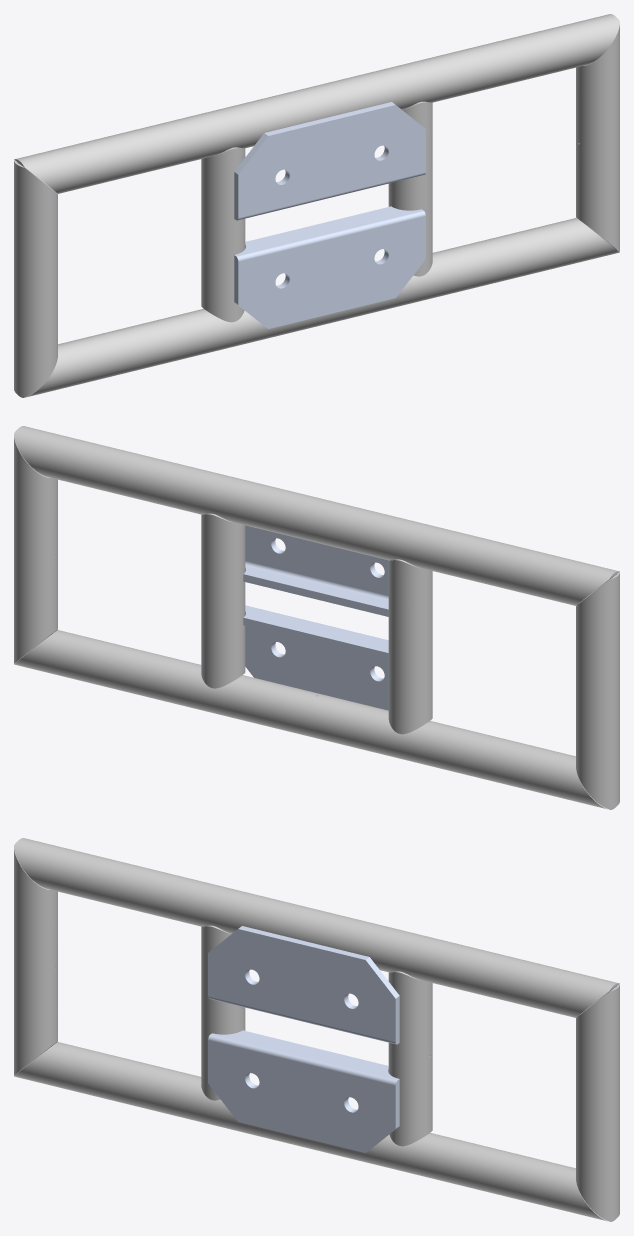
The picture shows the model from 3 angles, top to bottom: view 1: azimuth 30°, elevation 25°; view 2: azimuth 150°, elevation 25°; view 3: azimuth 330°, elevation 25°; orthographic projection.
Parts seen in each view (by area): view 1: Tubo Externo Maior Corte 45° - Base 800x300mm AL-P30-4, Tubo Externo Maior Corte 45° - Base 800x300mm AL-P30-3, Chapa de cabeça-2, Chapa de cabeça-1, Tubo Externo Menor Corte 45° - Base 800x300mm AL-P30-1, Tubo Externo Menor Corte 45° - Base 800x300mm AL-P30-2, Tubo Interno Maior - Base 800x8300mm AL-P30-2, Tubo Interno Maior - Base 800x8300mm AL-P30-1; view 2: Tubo Externo Maior Corte 45° - Base 800x300mm AL-P30-4, Tubo Externo Maior Corte 45° - Base 800x300mm AL-P30-3, Chapa de cabeça-2, Tubo Externo Menor Corte 45° - Base 800x300mm AL-P30-1, Chapa de cabeça-1, Tubo Externo Menor Corte 45° - Base 800x300mm AL-P30-2, Tubo Interno Maior - Base 800x8300mm AL-P30-2, Tubo Interno Maior - Base 800x8300mm AL-P30-1; view 3: Tubo Externo Maior Corte 45° - Base 800x300mm AL-P30-4, Tubo Externo Maior Corte 45° - Base 800x300mm AL-P30-3, Chapa de cabeça-2, Chapa de cabeça-1, Tubo Externo Menor Corte 45° - Base 800x300mm AL-P30-2, Tubo Externo Menor Corte 45° - Base 800x300mm AL-P30-1, Tubo Interno Maior - Base 800x8300mm AL-P30-1, Tubo Interno Maior - Base 800x8300mm AL-P30-2.
Part boxes in pixels (box(x1,y1,x2,y2)): Tubo Externo Maior Corte 45° - Base 800x300mm AL-P30-4: box(14, 14, 619, 193); Tubo Externo Maior Corte 45° - Base 800x300mm AL-P30-3: box(17, 218, 619, 397); Chapa de cabeça-2: box(234, 206, 425, 328); Chapa de cabeça-1: box(234, 102, 425, 220); Tubo Externo Menor Corte 45° - Base 800x300mm AL-P30-1: box(14, 160, 57, 397); Tubo Externo Menor Corte 45° - Base 800x300mm AL-P30-2: box(576, 19, 619, 251); Tubo Interno Maior - Base 800x8300mm AL-P30-2: box(201, 147, 245, 322); Tubo Interno Maior - Base 800x8300mm AL-P30-1: box(388, 101, 432, 276); Tubo Externo Maior Corte 45° - Base 800x300mm AL-P30-4: box(14, 426, 619, 605); Tubo Externo Maior Corte 45° - Base 800x300mm AL-P30-3: box(14, 630, 616, 809); Chapa de cabeça-2: box(243, 605, 388, 710); Tubo Externo Menor Corte 45° - Base 800x300mm AL-P30-1: box(576, 572, 619, 808); Chapa de cabeça-1: box(243, 525, 388, 616); Tubo Externo Menor Corte 45° - Base 800x300mm AL-P30-2: box(14, 431, 57, 663); Tubo Interno Maior - Base 800x8300mm AL-P30-2: box(388, 559, 432, 734); Tubo Interno Maior - Base 800x8300mm AL-P30-1: box(201, 513, 245, 688); Tubo Externo Maior Corte 45° - Base 800x300mm AL-P30-4: box(14, 838, 619, 1017); Tubo Externo Maior Corte 45° - Base 800x300mm AL-P30-3: box(14, 1042, 616, 1221); Chapa de cabeça-2: box(208, 1030, 399, 1152); Chapa de cabeça-1: box(208, 926, 399, 1044); Tubo Externo Menor Corte 45° - Base 800x300mm AL-P30-2: box(576, 984, 619, 1220); Tubo Externo Menor Corte 45° - Base 800x300mm AL-P30-1: box(14, 843, 57, 1075); Tubo Interno Maior - Base 800x8300mm AL-P30-1: box(388, 971, 432, 1146); Tubo Interno Maior - Base 800x8300mm AL-P30-2: box(201, 925, 245, 1100).
Size of the model in its own units: 0.8 by 0.3 by 0.0603.
